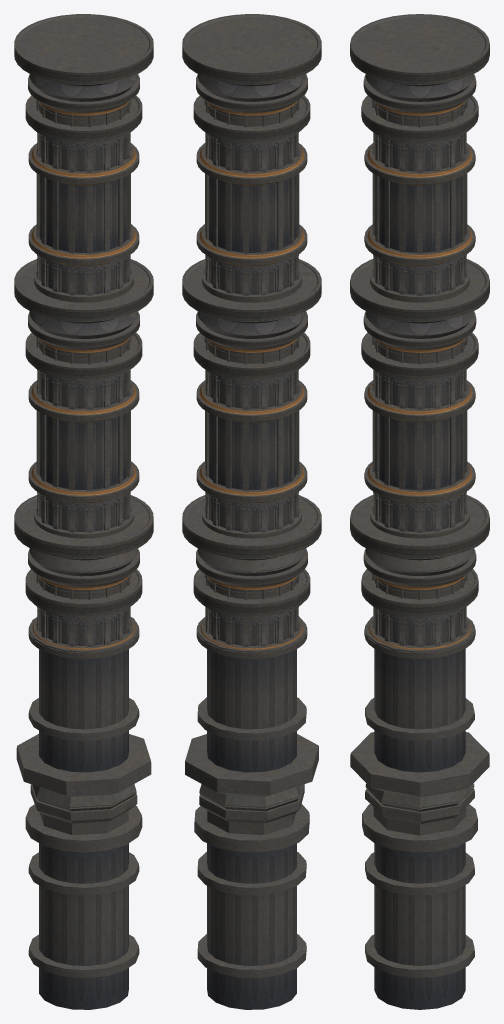
Rendered from SM_ZhuZi01.glb.
3 views of the same model, side by side, from view 1: azimuth 30°, elevation 25°; view 2: azimuth 150°, elevation 25°; view 3: azimuth 270°, elevation 25° (orthographic).
Parts seen in each view (by area): view 1: SM_ZhuZi01.003; view 2: SM_ZhuZi01.003; view 3: SM_ZhuZi01.003.
Boxes of the visible parts, box(x1,y1,x2,y2) form: SM_ZhuZi01.003: box(14, 14, 153, 1009); SM_ZhuZi01.003: box(182, 14, 321, 1009); SM_ZhuZi01.003: box(350, 14, 489, 1009).
Size of the model in its own units: 4038 by 30197 by 4038.
Materials: 3 (3 with a texture image).
